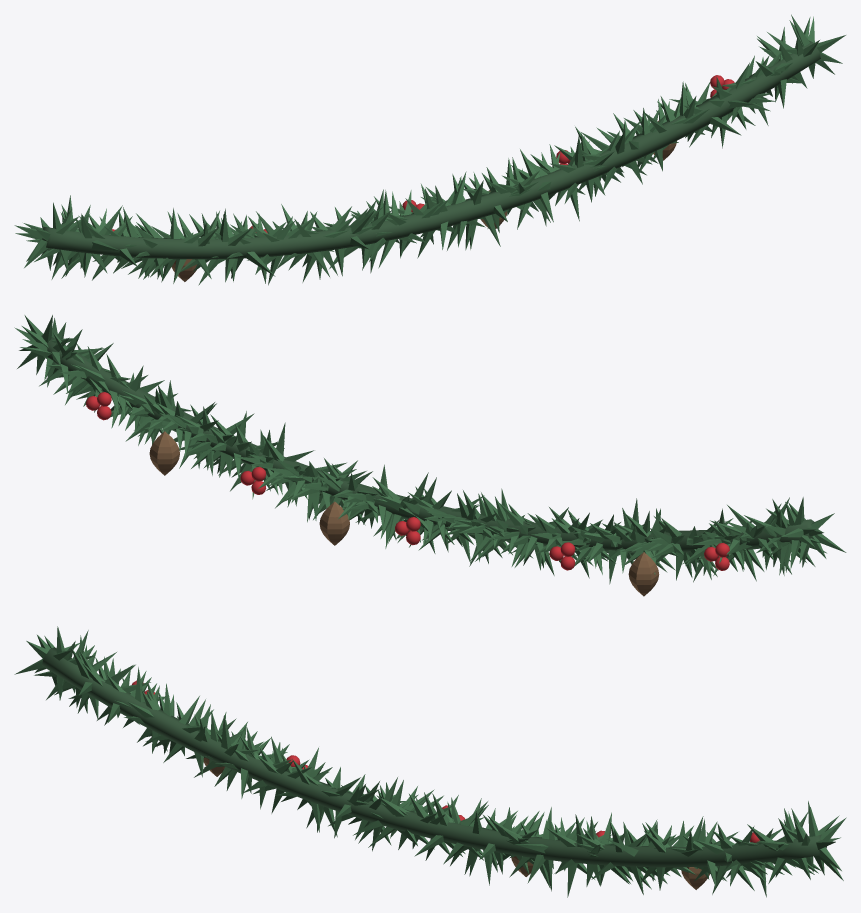
Rendered from mantel-garland.glb.
3 views of the same model, one above another, from view 1: azimuth 30°, elevation 25°; view 2: azimuth 150°, elevation 25°; view 3: azimuth 330°, elevation 25° (orthographic).
Visible parts, largest first — view 1: Garland_Needles, Garland_Rope; view 2: Garland_Needles, Garland_Rope, Garland_Cone.002, Garland_Cone, Garland_Cone.001; view 3: Garland_Needles, Garland_Rope.
Part boxes in pixels (<box>): Garland_Needles: <box>14,14,845,285</box>; Garland_Rope: <box>42,40,820,259</box>; Garland_Needles: <box>14,315,846,584</box>; Garland_Rope: <box>34,333,814,553</box>; Garland_Cone.002: <box>149,431,179,475</box>; Garland_Cone: <box>628,552,659,596</box>; Garland_Cone.001: <box>319,501,349,545</box>; Garland_Needles: <box>14,626,846,897</box>; Garland_Rope: <box>42,647,826,867</box>.
Bounding box in the file's own units: 1 × 0.1794 × 0.0963.
